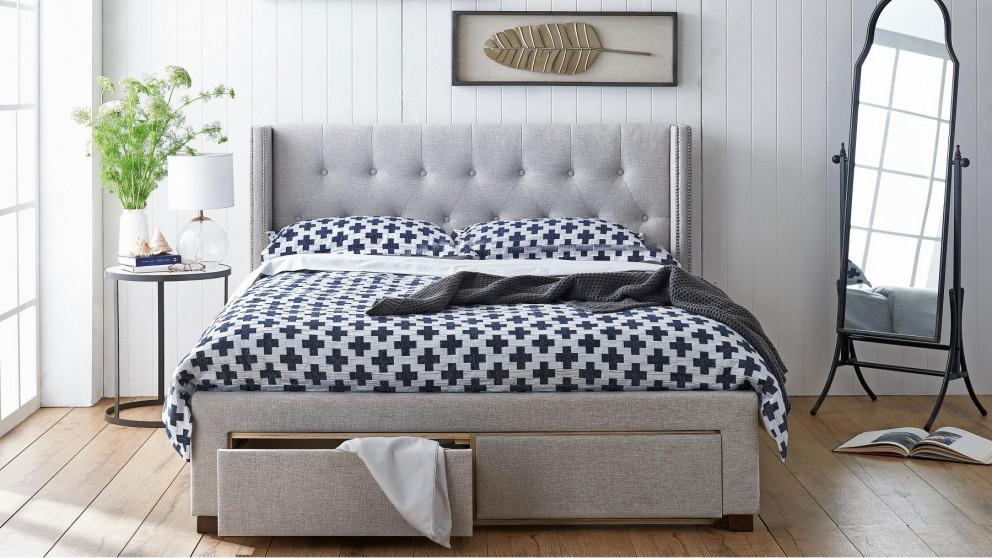bed: (181, 101, 794, 537)
